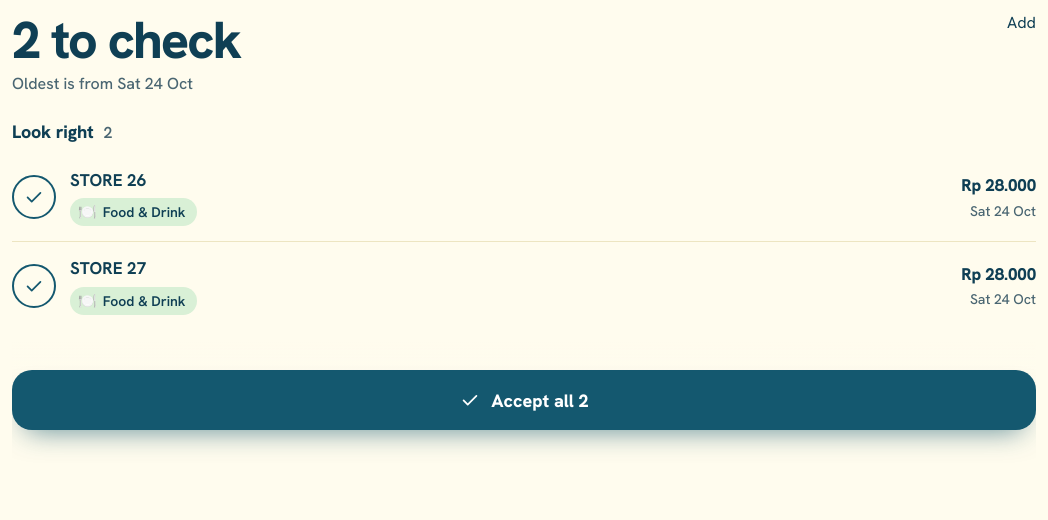
it: the accept bar › says why when accepting fails, and puts the lines back
Click the button "Accept all 2". click: (524, 400)
box: x1=12 y1=370 x2=1036 y2=430
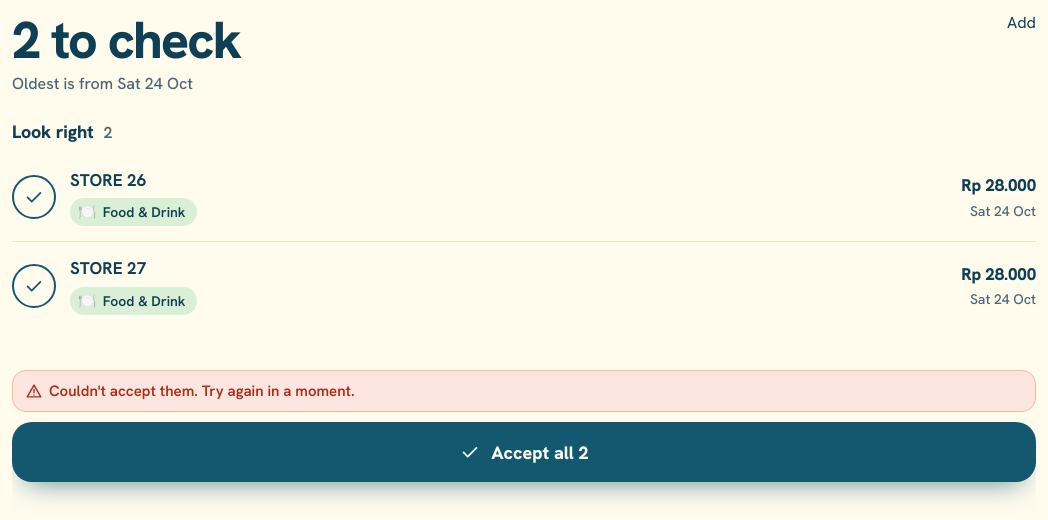
Expected: the button "Accept all 2" is shown, x1=12 y1=422 x2=1036 y2=482
Expected: the text "Couldn't accept them. Try again in a moment." is shown, x1=49 y1=381 x2=355 y2=402
